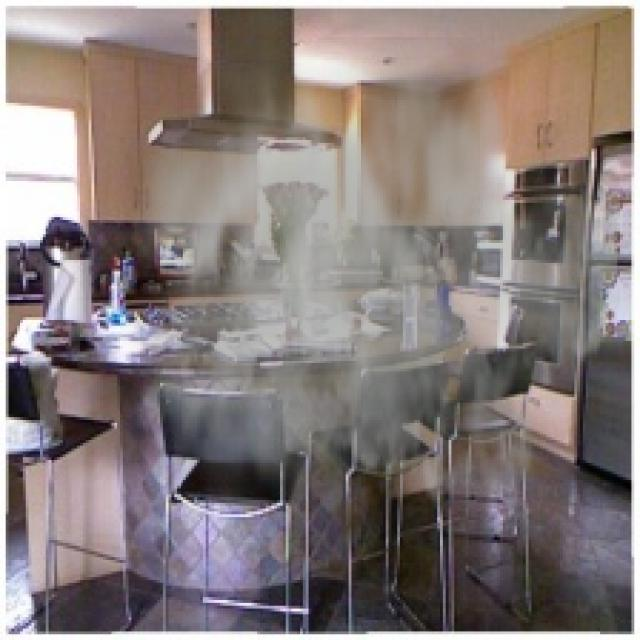smoke: (103, 37, 617, 566)
